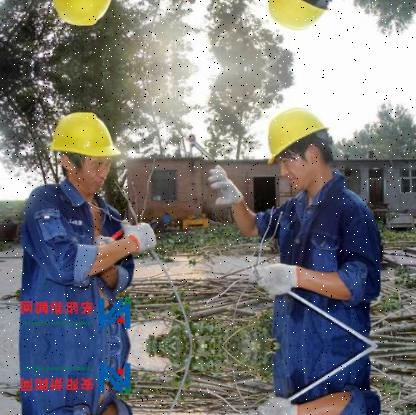helmet: (261, 96, 343, 193), (47, 105, 126, 194), (260, 0, 343, 41), (47, 0, 127, 32)
